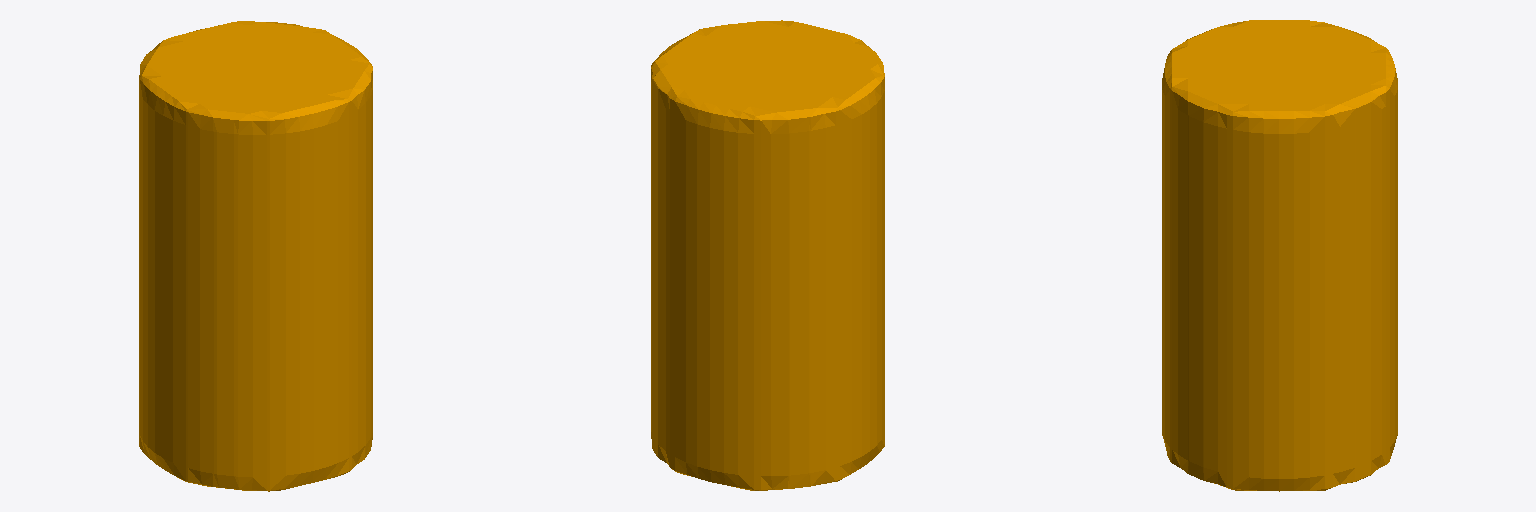
The robot description file, URDF, robot "cylinder_../../meshes/cylinders/cylinder_120.stl":
<?xml version="1.0" encoding="utf-8"?>  <robot name="cylinder_../../meshes/cylinders/cylinder_120.stl">   <link name="cylinder_../../meshes/cylinders/cylinder_120.stl">     <visual>       <geometry>         <mesh filename="../meshes/cylinders/cylinder_120.stl" scale="1 1 1"/>       </geometry>     </visual>     <collision>       <geometry>         <mesh filename="../meshes/cylinders/cylinder_120.stl" scale="1 1 1"/>       </geometry>     </collision>     <inertial>        <origin         xyz="0 0 0"         rpy="0 0 0" />       <mass value="0.6506769725277602"/>       <origin rpy="0 0 0" xyz="0 0 0"/>       <inertia ixx="0.0012688269612607498" ixy="-3.197916576580168e-08" ixz="-3.4468693959915943e-09" iyy="0.0012688274932832646" iyz="-2.4613700006382428e-09" izz="0.0004891036544187097"/>     </inertial>   </link>  </robot>

--- Facts derived from the render (not from the file) ---
The picture shows the robot from 3 angles, left to right: view 1: azimuth 30°, elevation 25°; view 2: azimuth 150°, elevation 25°; view 3: azimuth 270°, elevation 25°; orthographic projection.
Model cylinder_../../meshes/cylinders/cylinder_120.stl with 1 links and 0 joints (none), rooted at cylinder_../../meshes/cylinders/cylinder_120.stl, posed all joints at 0.
Visible links, largest first — view 1: cylinder_../../meshes/cylinders/cylinder_120.stl; view 2: cylinder_../../meshes/cylinders/cylinder_120.stl; view 3: cylinder_../../meshes/cylinders/cylinder_120.stl.
Link boxes in pixels (left/top/right/bottom): cylinder_../../meshes/cylinders/cylinder_120.stl: left=139, top=21, right=372, bottom=491; cylinder_../../meshes/cylinders/cylinder_120.stl: left=651, top=20, right=884, bottom=490; cylinder_../../meshes/cylinders/cylinder_120.stl: left=1162, top=20, right=1397, bottom=491.
Size in the robot's own frame: 0.0778 by 0.0778 by 0.1378 metres.
1 mesh visuals loaded from 1 distinct referenced files (1 binary STL).